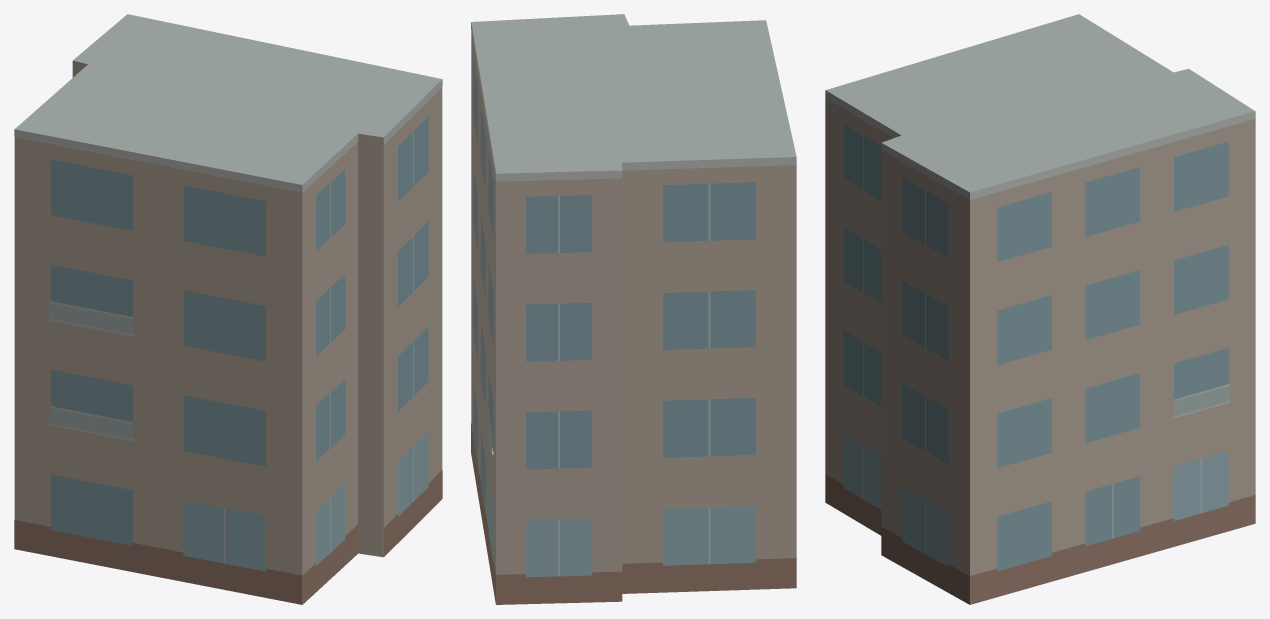
File: survey-upis-32471651.glb
3 views of the same model, side by side, from view 1: azimuth 30°, elevation 25°; view 2: azimuth 150°, elevation 25°; view 3: azimuth 270°, elevation 25° (orthographic). The views are drawn at different scales.
Visible parts, largest first — view 1: survey-upis-32471651.tmp; view 2: survey-upis-32471651.tmp; view 3: survey-upis-32471651.tmp.
Part boxes in pixels (x1=…): survey-upis-32471651.tmp: x1=14, y1=14, x2=442, y2=604; survey-upis-32471651.tmp: x1=471, y1=14, x2=796, y2=604; survey-upis-32471651.tmp: x1=825, y1=14, x2=1255, y2=604.
Bounding box in the file's own units: 12.17 × 13.1 × 12.39.
